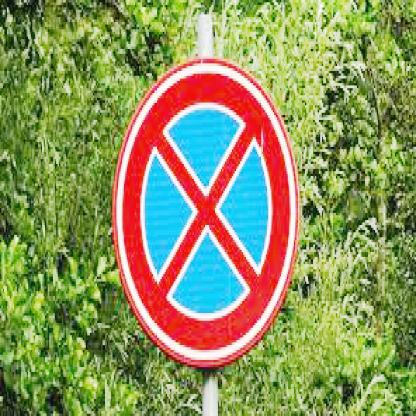No stopping: (108, 57, 302, 365)
